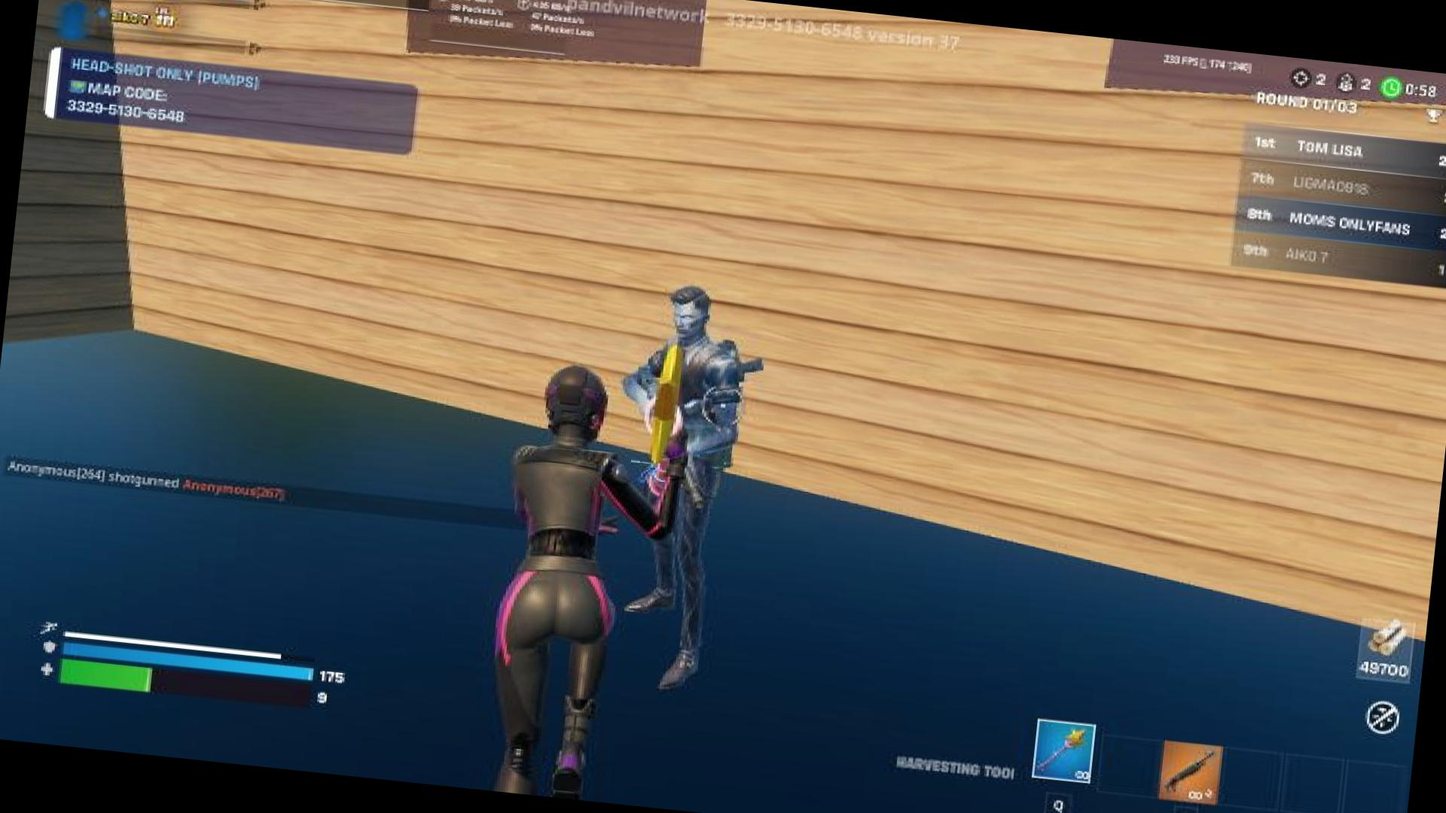player: (606, 277, 765, 693)
